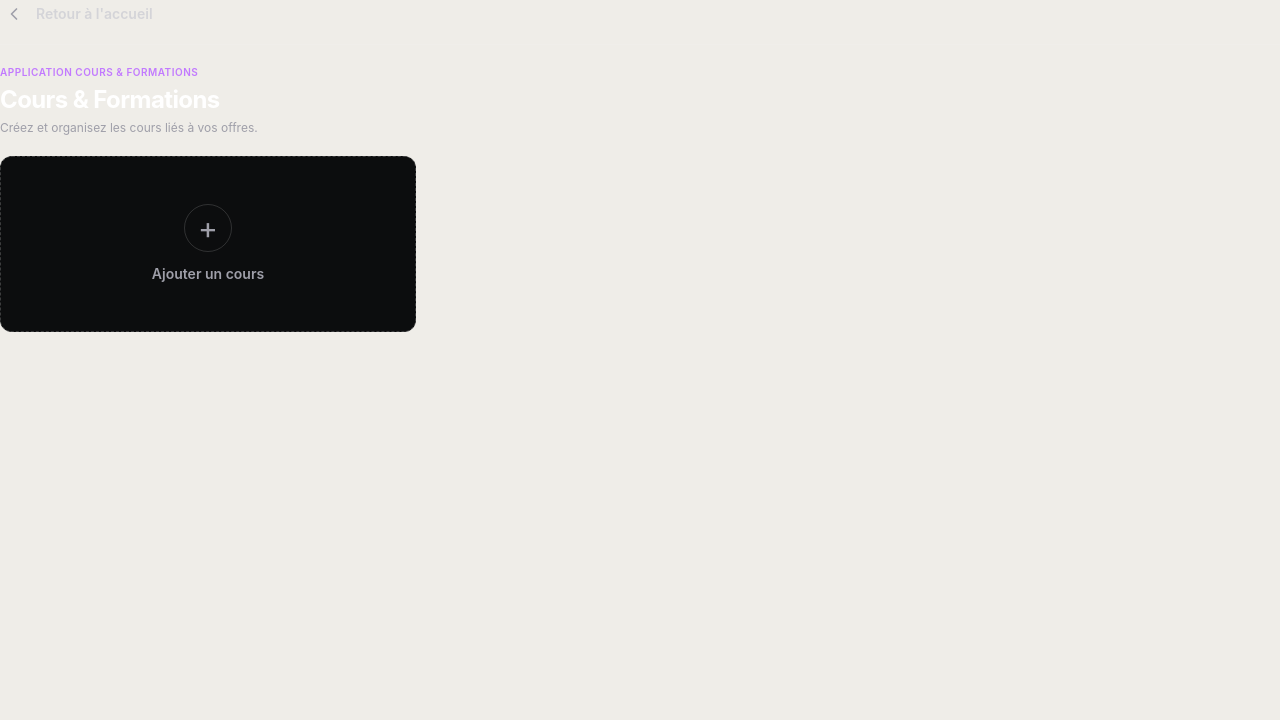
Test: navigation catalogue Apps Store vers les workspaces créateur › affiche deux écrans de gestion distincts pour Cours et Fichiers
Later steps or results of the test are not shown.
Expected: the button "Retour à l'accueil" is shown, [0, 0, 152, 28]
Click the button "+ Ajouter un cours" at [208, 244], box [0, 156, 416, 332]
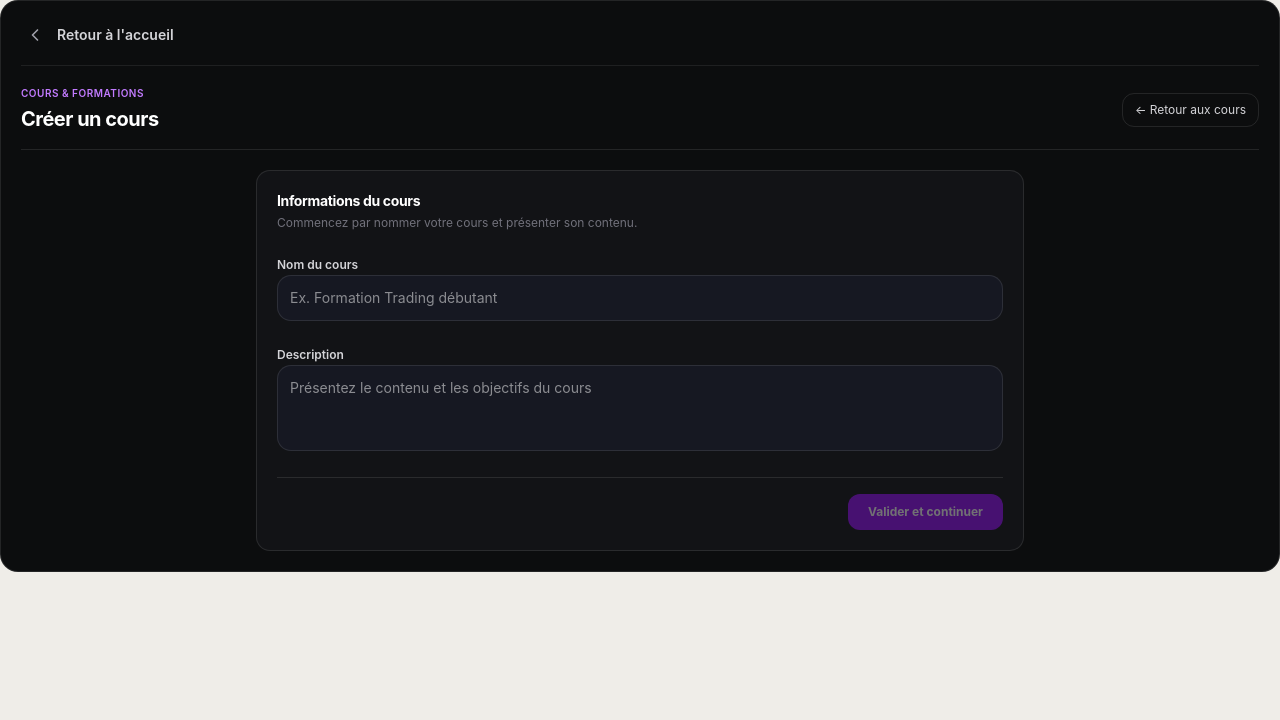
Now the heading "Créer un cours" is shown, box [21, 105, 159, 133]
Now the field labelled "Nom du cours" is shown
Now the text box labelled "Description" is shown, box [277, 365, 1003, 451]
Type "Cours de test" into the field labelled "Nom du cours" at [640, 298], box [277, 275, 1003, 321]
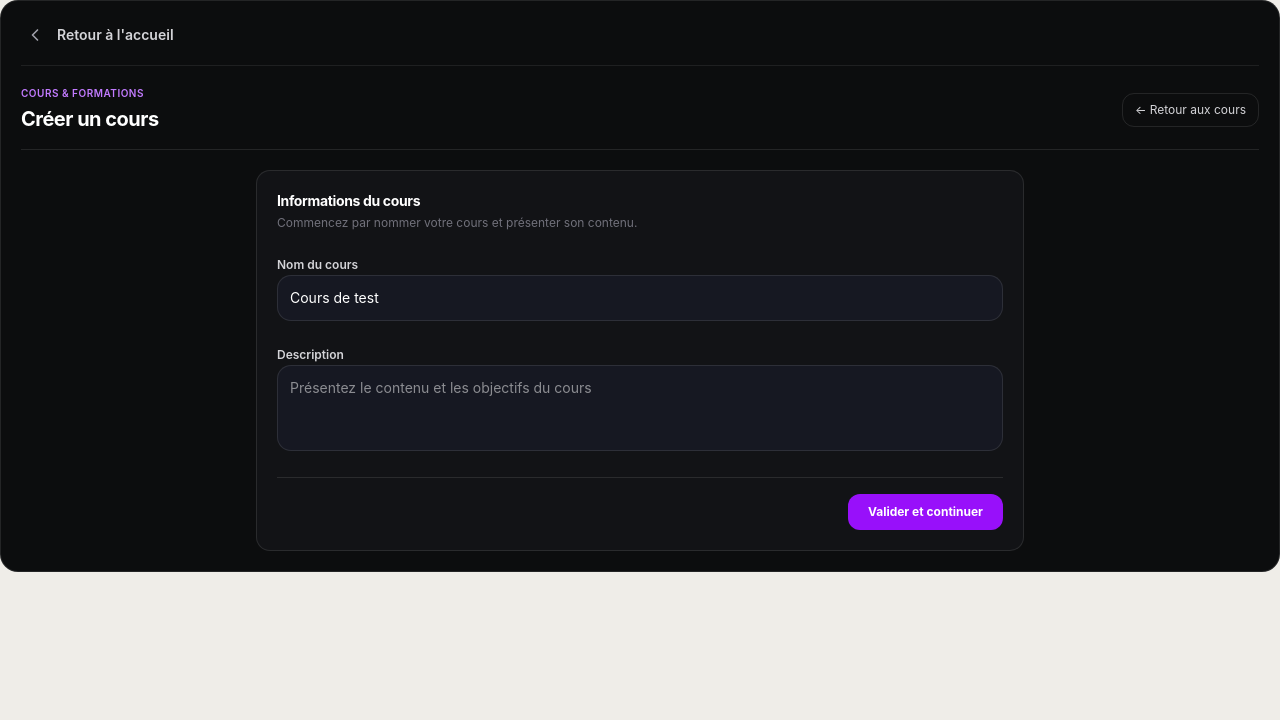
Type "Description du cours" into the text box labelled "Description" at [640, 408], box [277, 365, 1003, 451]
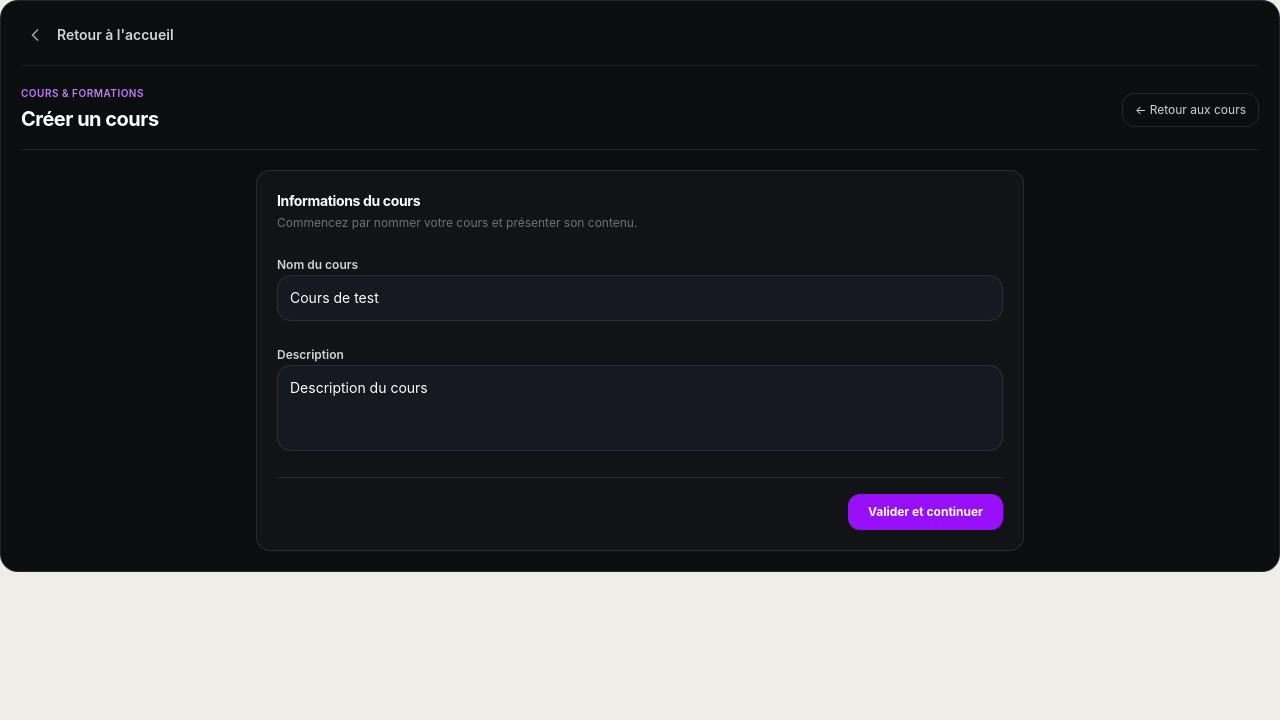
Click the button "Valider et continuer" at [925, 512], box [848, 494, 1003, 530]
(page scrolled)
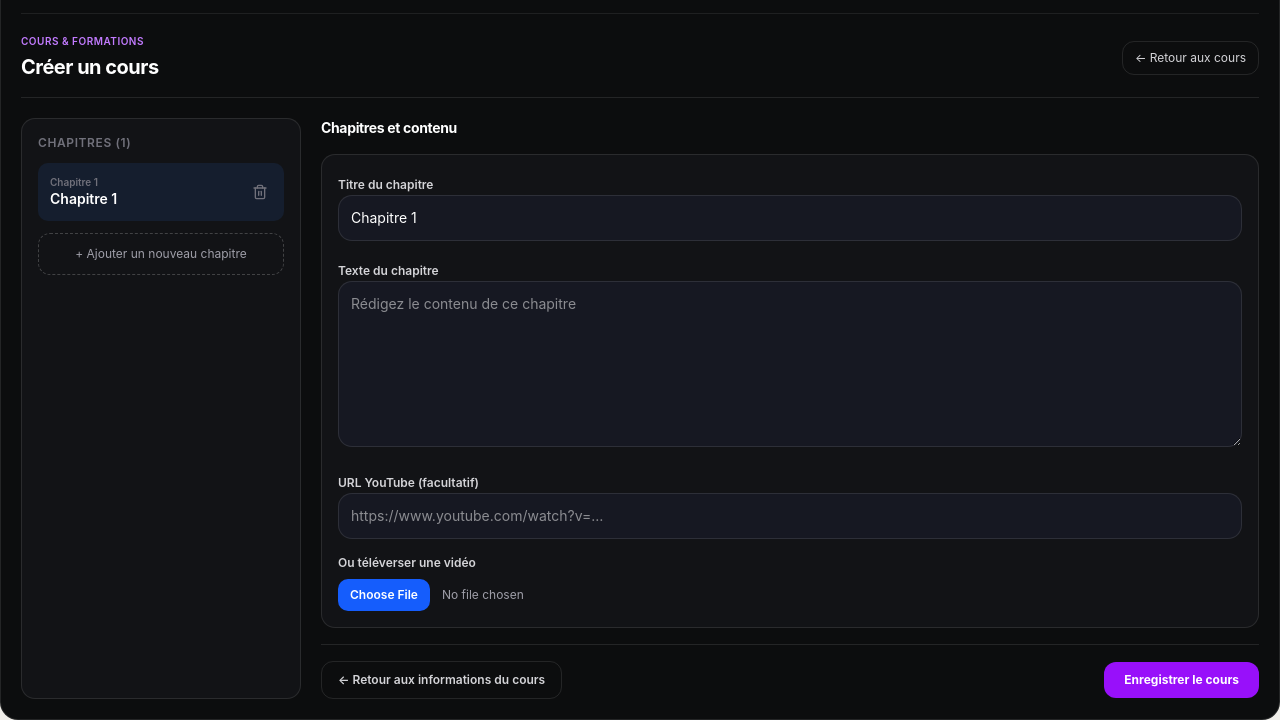
Now the field labelled "Titre du chapitre" is shown, box [338, 195, 1242, 241]
Now the text labelled "Nom du cours" is gone
Now the text labelled "Description" is gone
Click the button "← Retour aux informations du cours" at [442, 680], box [321, 661, 562, 699]
(page scrolled)
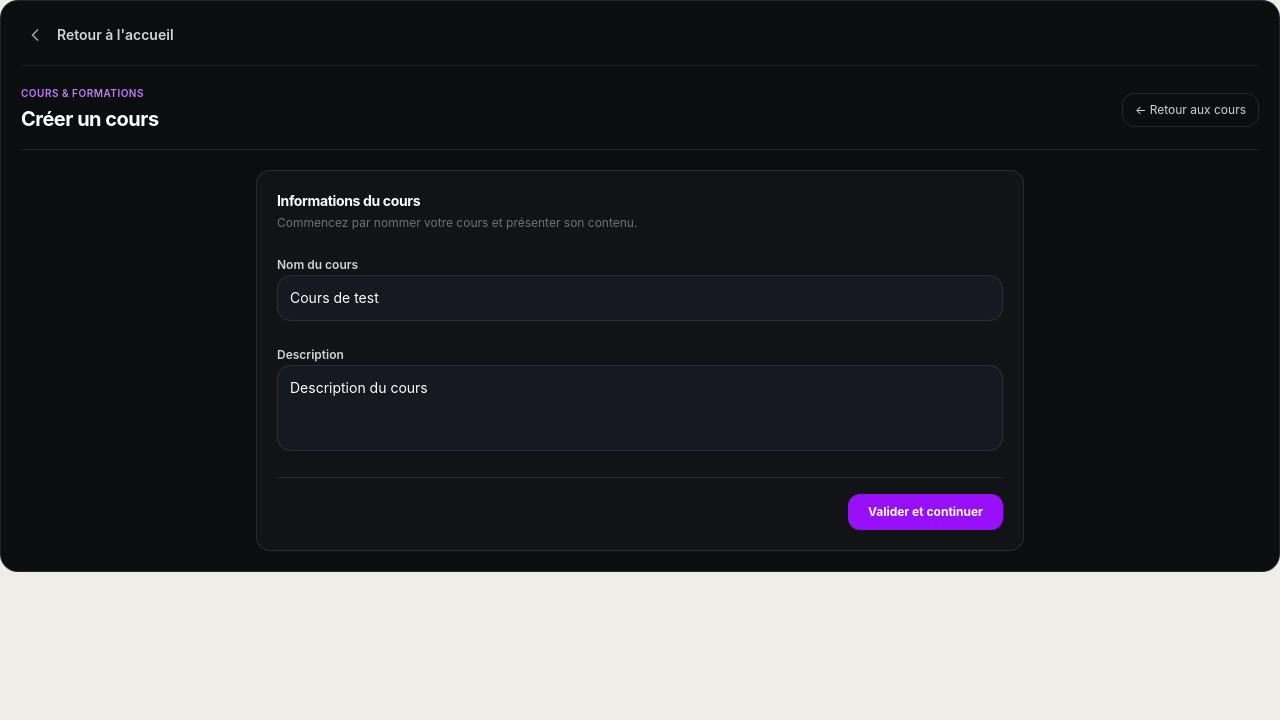
Now the field labelled "Nom du cours" holds "Cours de test", box [277, 275, 1003, 321]
Now the text box labelled "Description" holds "Description du cours", box [277, 365, 1003, 451]
